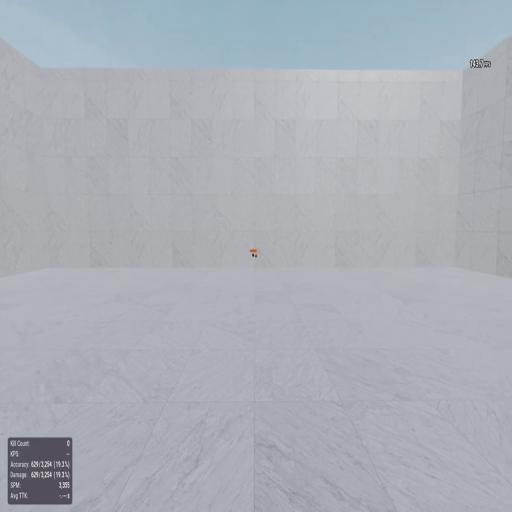Crosshair: (255, 254, 257, 258)
Target: (252, 253, 254, 257)
